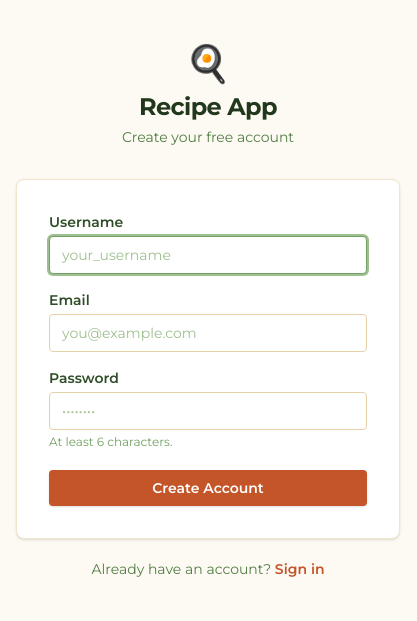
Test: RegisterPage › API error with no response.data.message — shows fallback text
Type "bob" into the field with placeholder "your_username" at {"x": 208, "y": 255}, box [49,236,367,274]
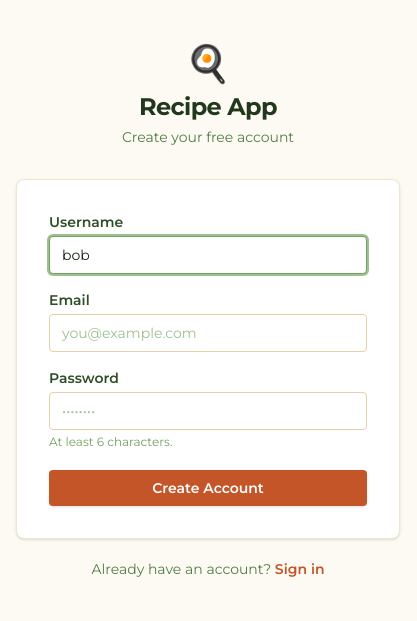
Type "bob@test.com" into the field with placeholder "you@example.com" at {"x": 208, "y": 333}, box [49,314,367,352]
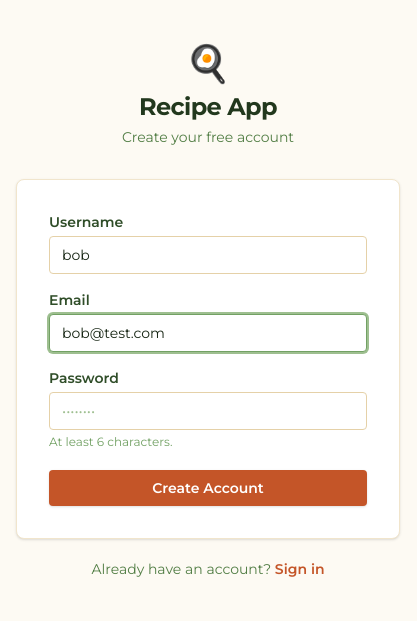
Type "pass123" into the password field with placeholder "••••••••" at {"x": 208, "y": 411}, box [49,392,367,430]
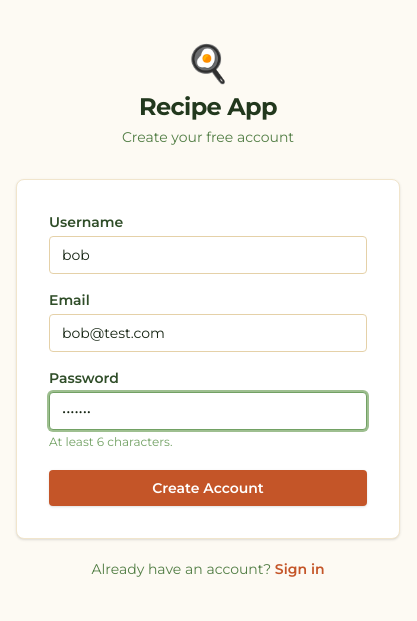
Click the button "Create Account" at {"x": 208, "y": 488}, box [49,470,367,506]
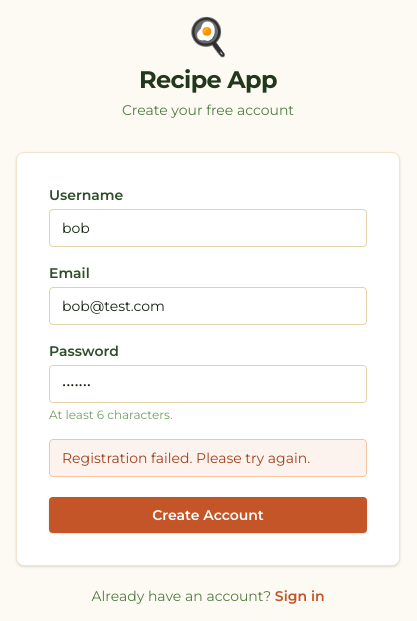
Check: the text "Registration failed. Please try again." is shown, box [49,439,367,477]
